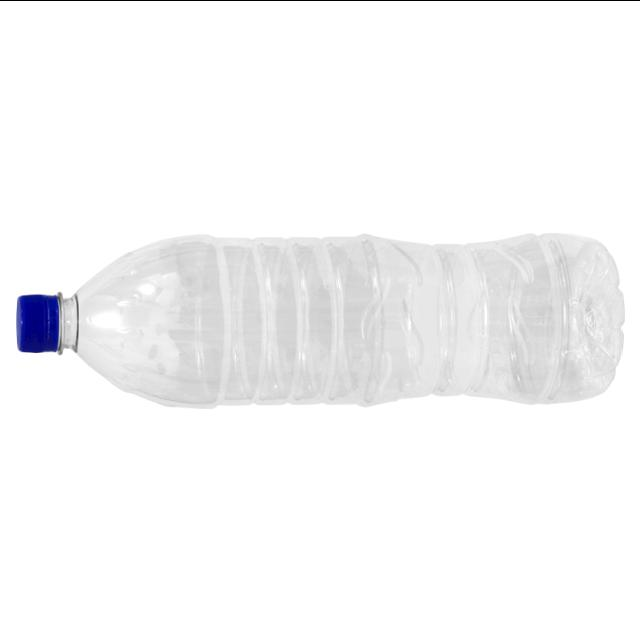bottle: (17, 234, 622, 406)
